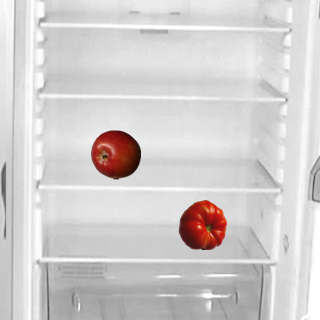Apple Braeburn: (90, 129, 140, 179)
Tomato 3: (177, 199, 227, 249)
